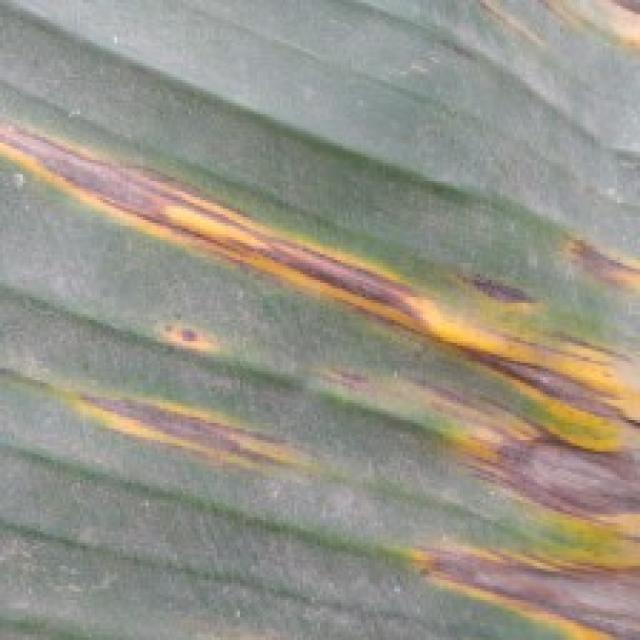Early_leaf_spot: (0, 102, 640, 636), (58, 361, 324, 492), (145, 287, 250, 380)
